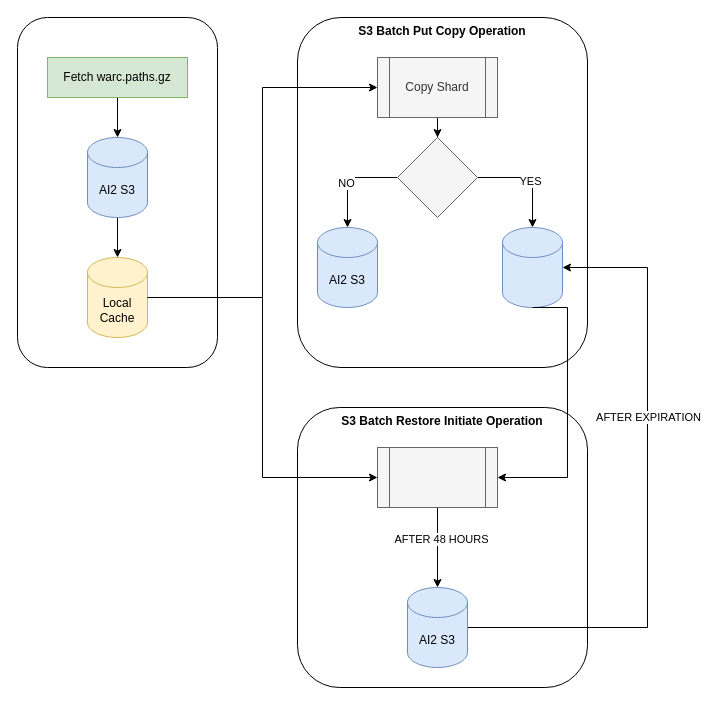
This 718x705 diagram has some shape labels left out. Each missing label, with the box of its shape:
AI2 S3 Deep Archive: (502, 226, 562, 308)
Full Shard?: (396, 136, 478, 218)
Restore Shard: (376, 446, 498, 508)
S3 Copy Operations: (16, 16, 218, 368)
